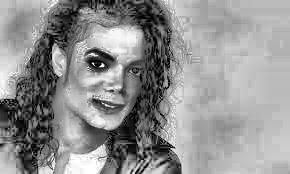happy: (49, 16, 167, 135)
